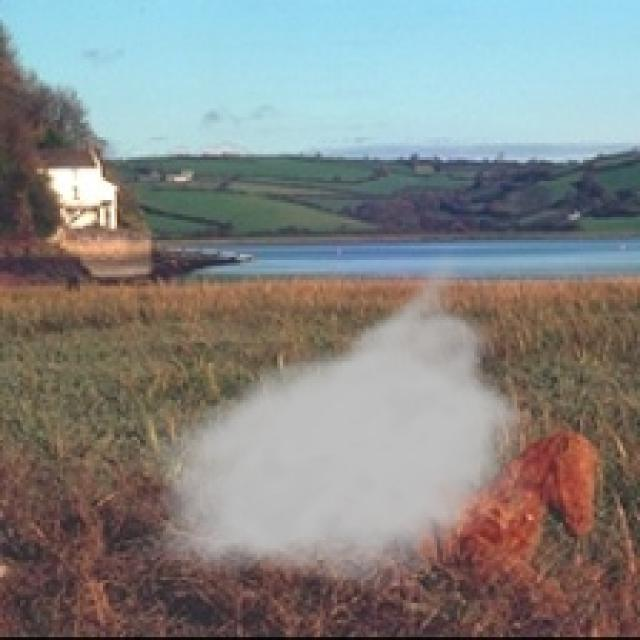Smoke: (131, 243, 540, 592)
